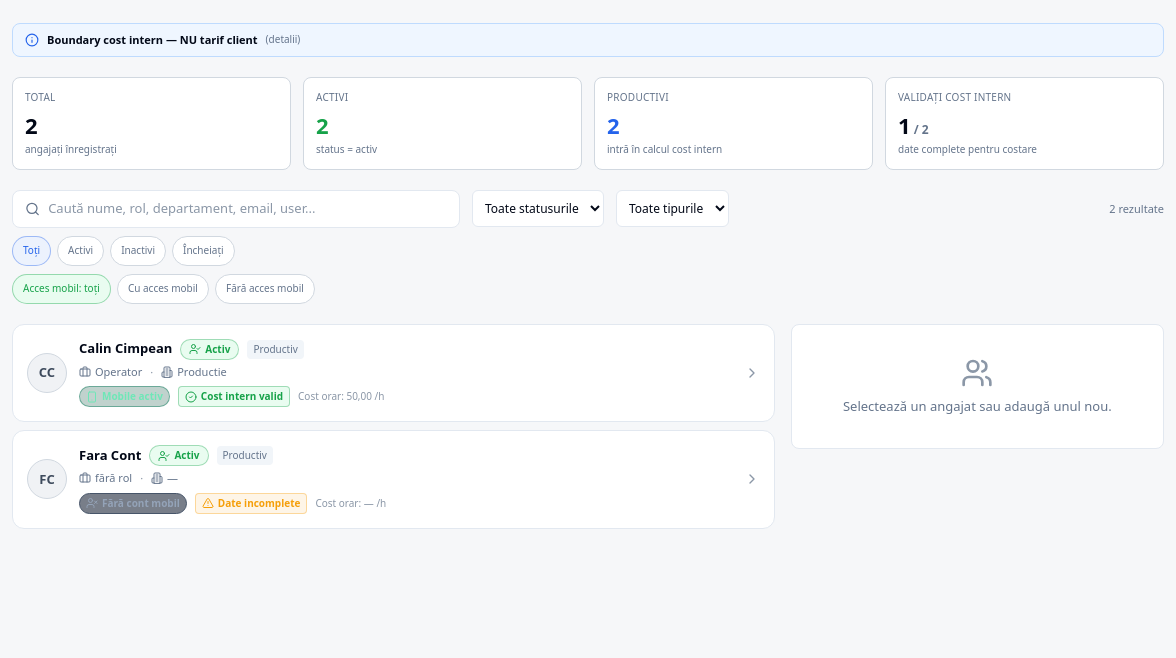
Test: Employees operational admin UI › shows mobile access badge in list and detail
Click the element with test id "employees-list-item-1" at (393,373), box x1=12 y1=324 x2=775 y2=422
(page scrolled)
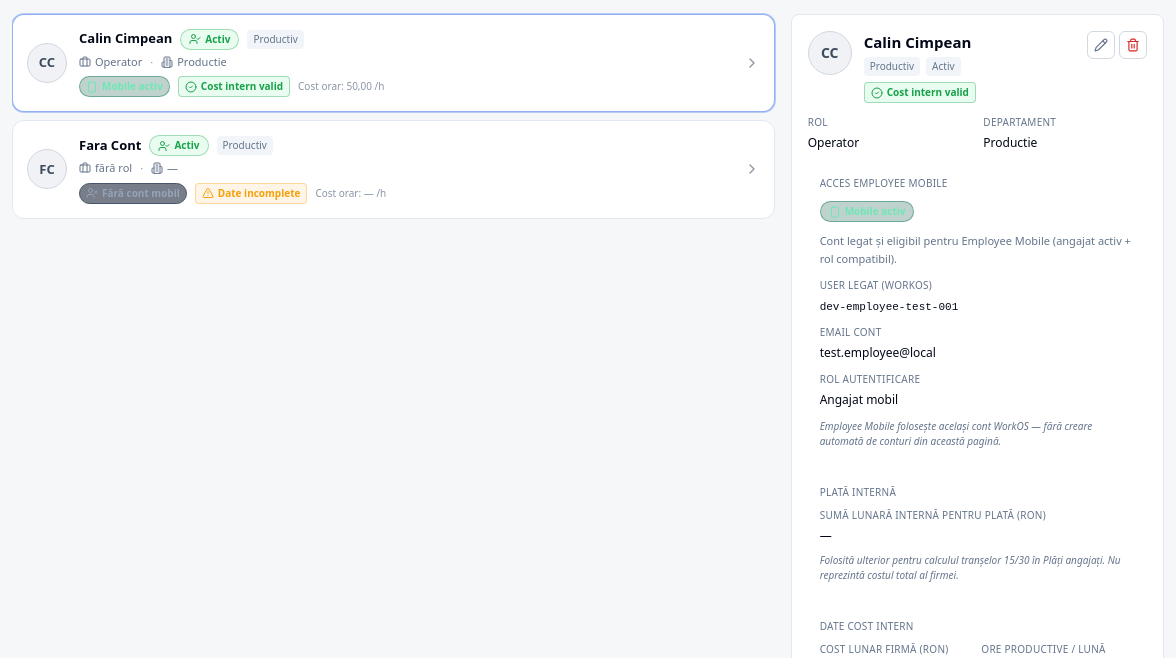
Expected: the element with test id "employee-mobile-access-badge" is shown, x1=79 y1=76 x2=170 y2=97
Now the element with test id "employee-detail-mobile-access" shows "Mobile activ", box x1=845 y1=204 x2=906 y2=218
Now the element with test id "employee-detail-mobile-access" shows "test.employee@local", box x1=820 y1=344 x2=936 y2=361
